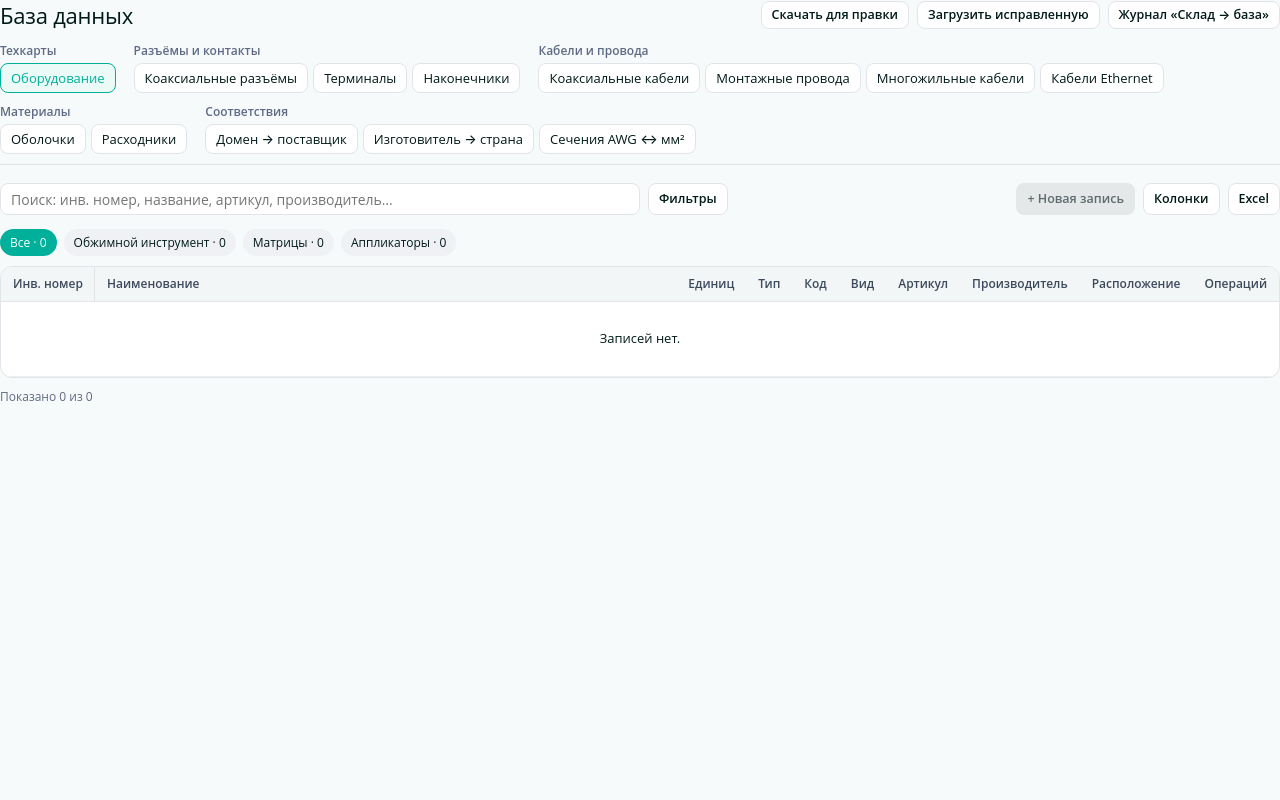
Test: edits a technology row with the old value and hides editing for non-admins
This screenshot has width=1280, height=800.
Click the button "Терминалы" at (360, 78), box [313,63,407,93]
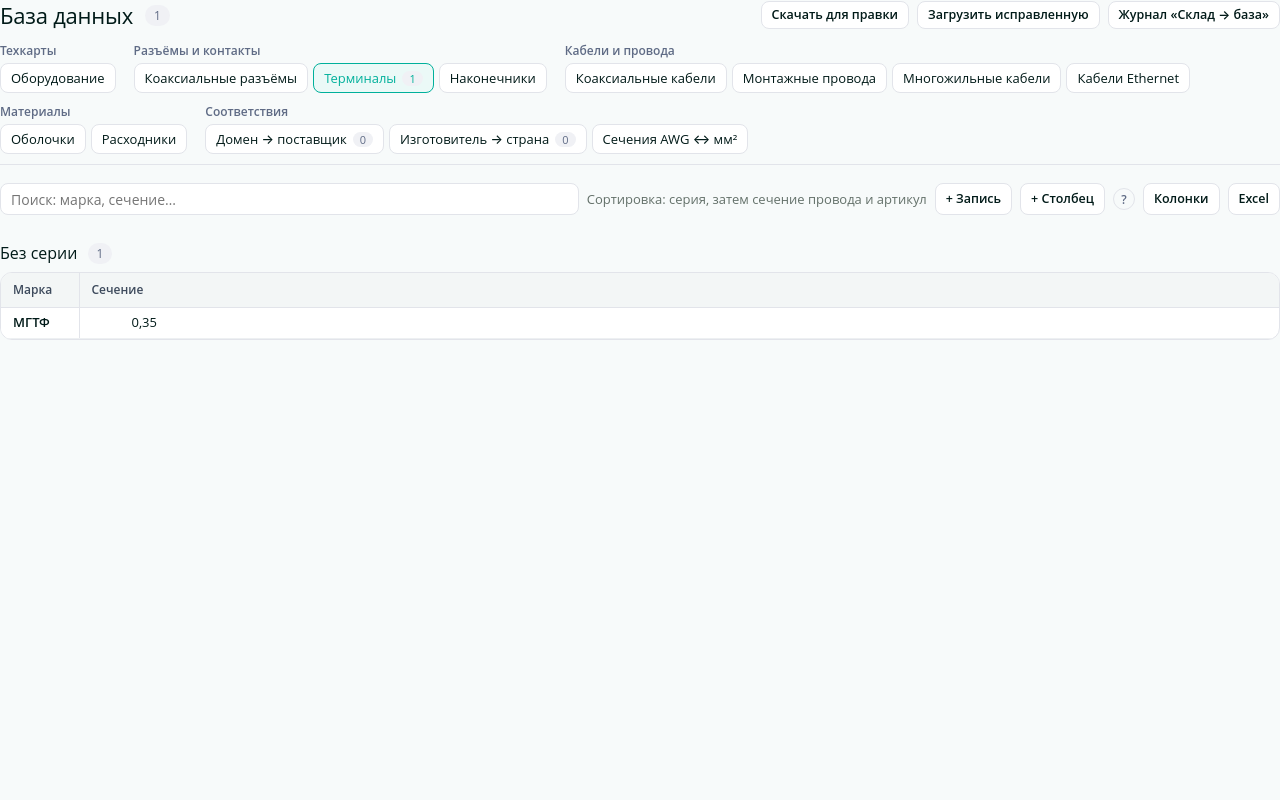
Click the text "МГТФ" at (40, 323), box [1,308,79,338]
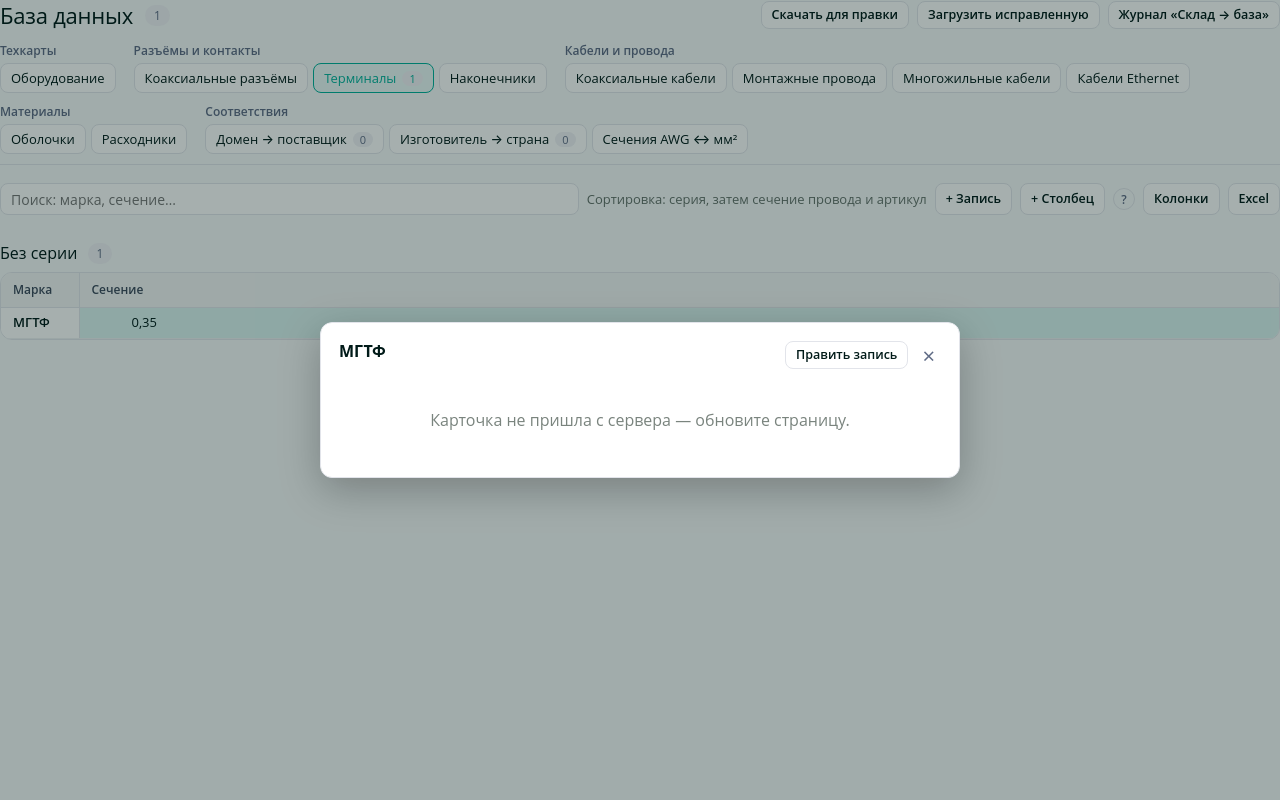
Click the button "Править запись" at (847, 355), box [785,341,908,369]
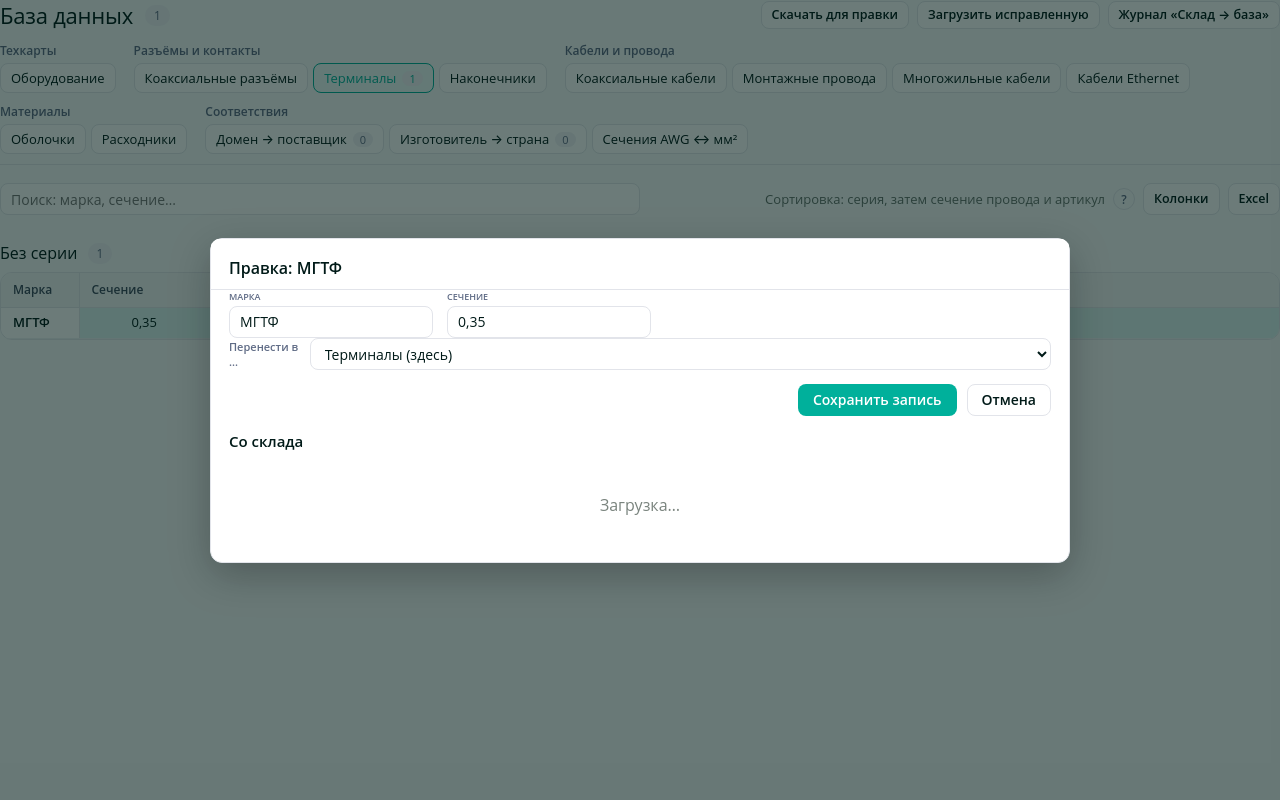
Replace the text in the field named "Поле Сечение" with "0,5" at (549, 322), box [447,306,651,338]
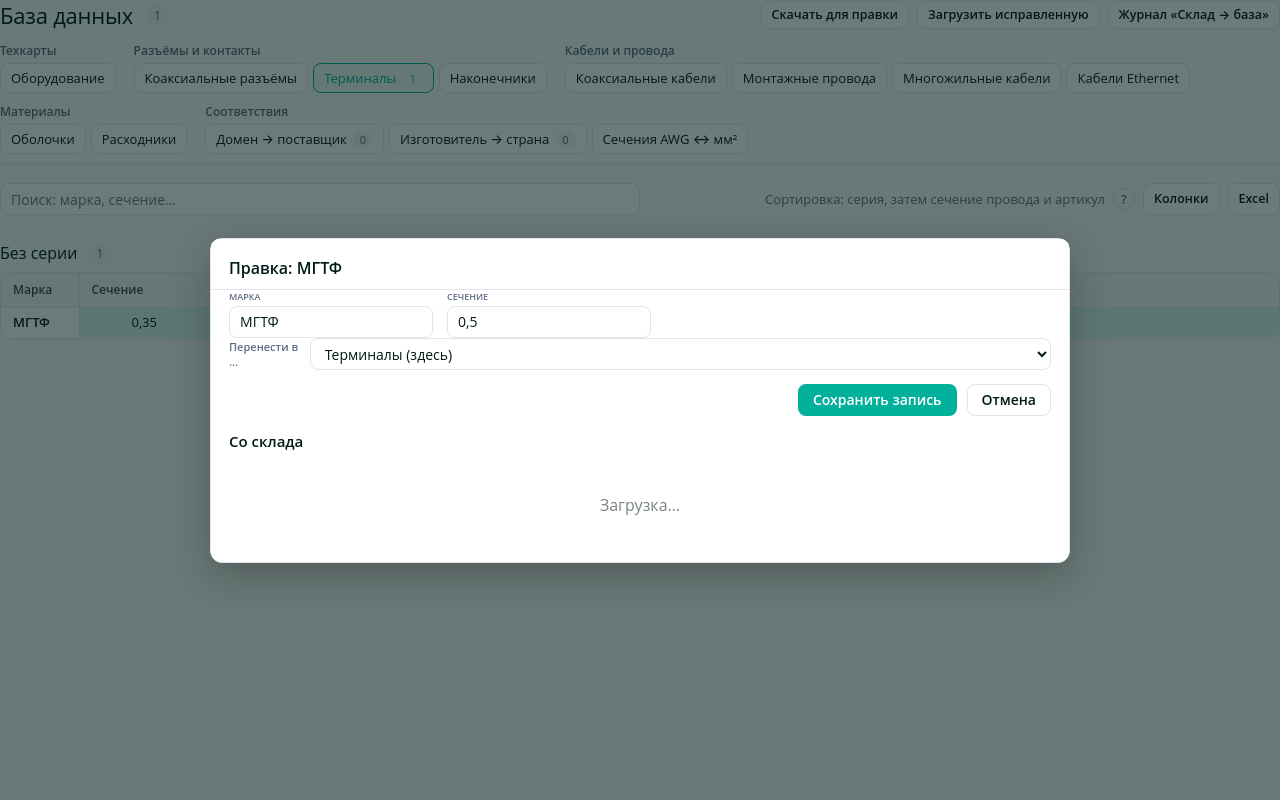
Click the button "Сохранить запись" at (877, 400), box [798,384,956,416]
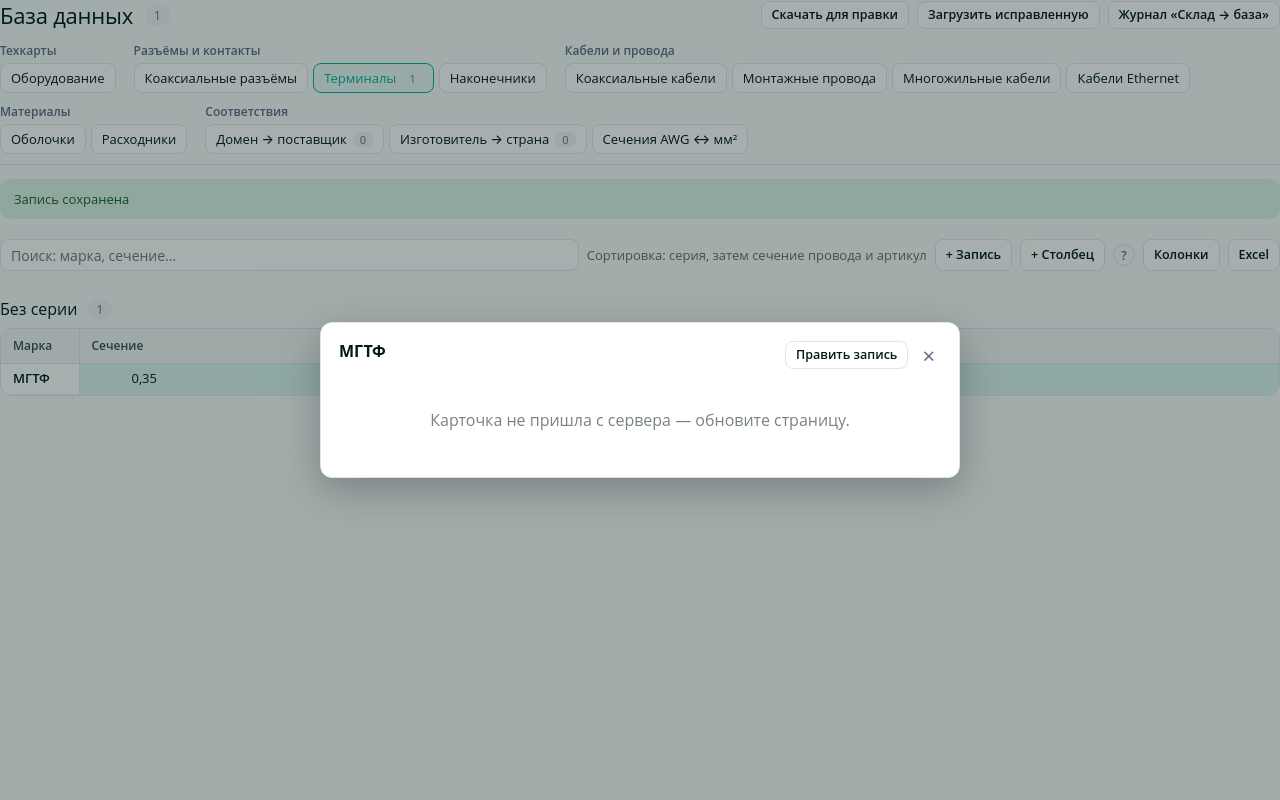
Now the text "Запись сохранена" is shown, box [0,179,1279,219]
